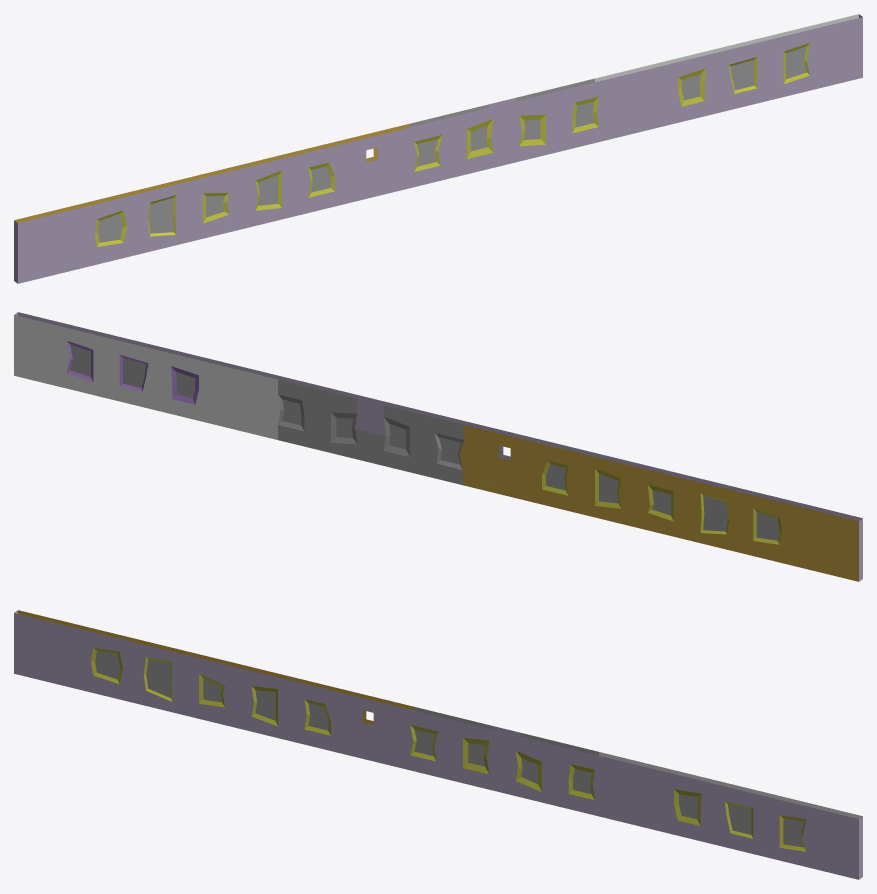
File: SM_SchoolWallEastBottom_1.1.fbx
3 views of the same model, one above another, from view 1: azimuth 30°, elevation 25°; view 2: azimuth 150°, elevation 25°; view 3: azimuth 330°, elevation 25° (orthographic).
Parts seen in each view (by area): view 1: SM_SchoolWallEastBottom; view 2: SM_SchoolWallEastBottom; view 3: SM_SchoolWallEastBottom.
Boxes of the visible parts, box(x1,y1,x2,y2) form: SM_SchoolWallEastBottom: box(14, 14, 862, 283); SM_SchoolWallEastBottom: box(14, 312, 862, 581); SM_SchoolWallEastBottom: box(14, 610, 862, 879).
Bounding box in the file's own units: 7280 × 500 × 60.
